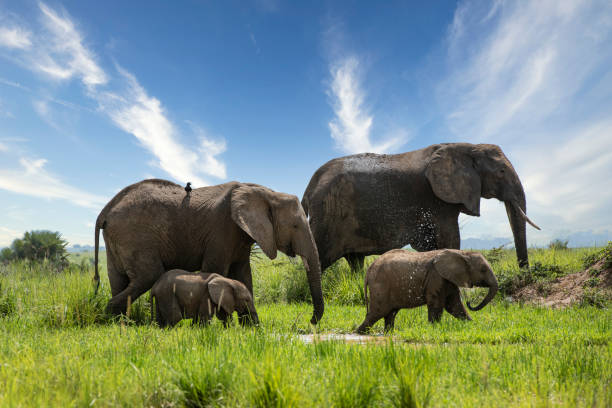africanelephant: (249, 184, 316, 280)
